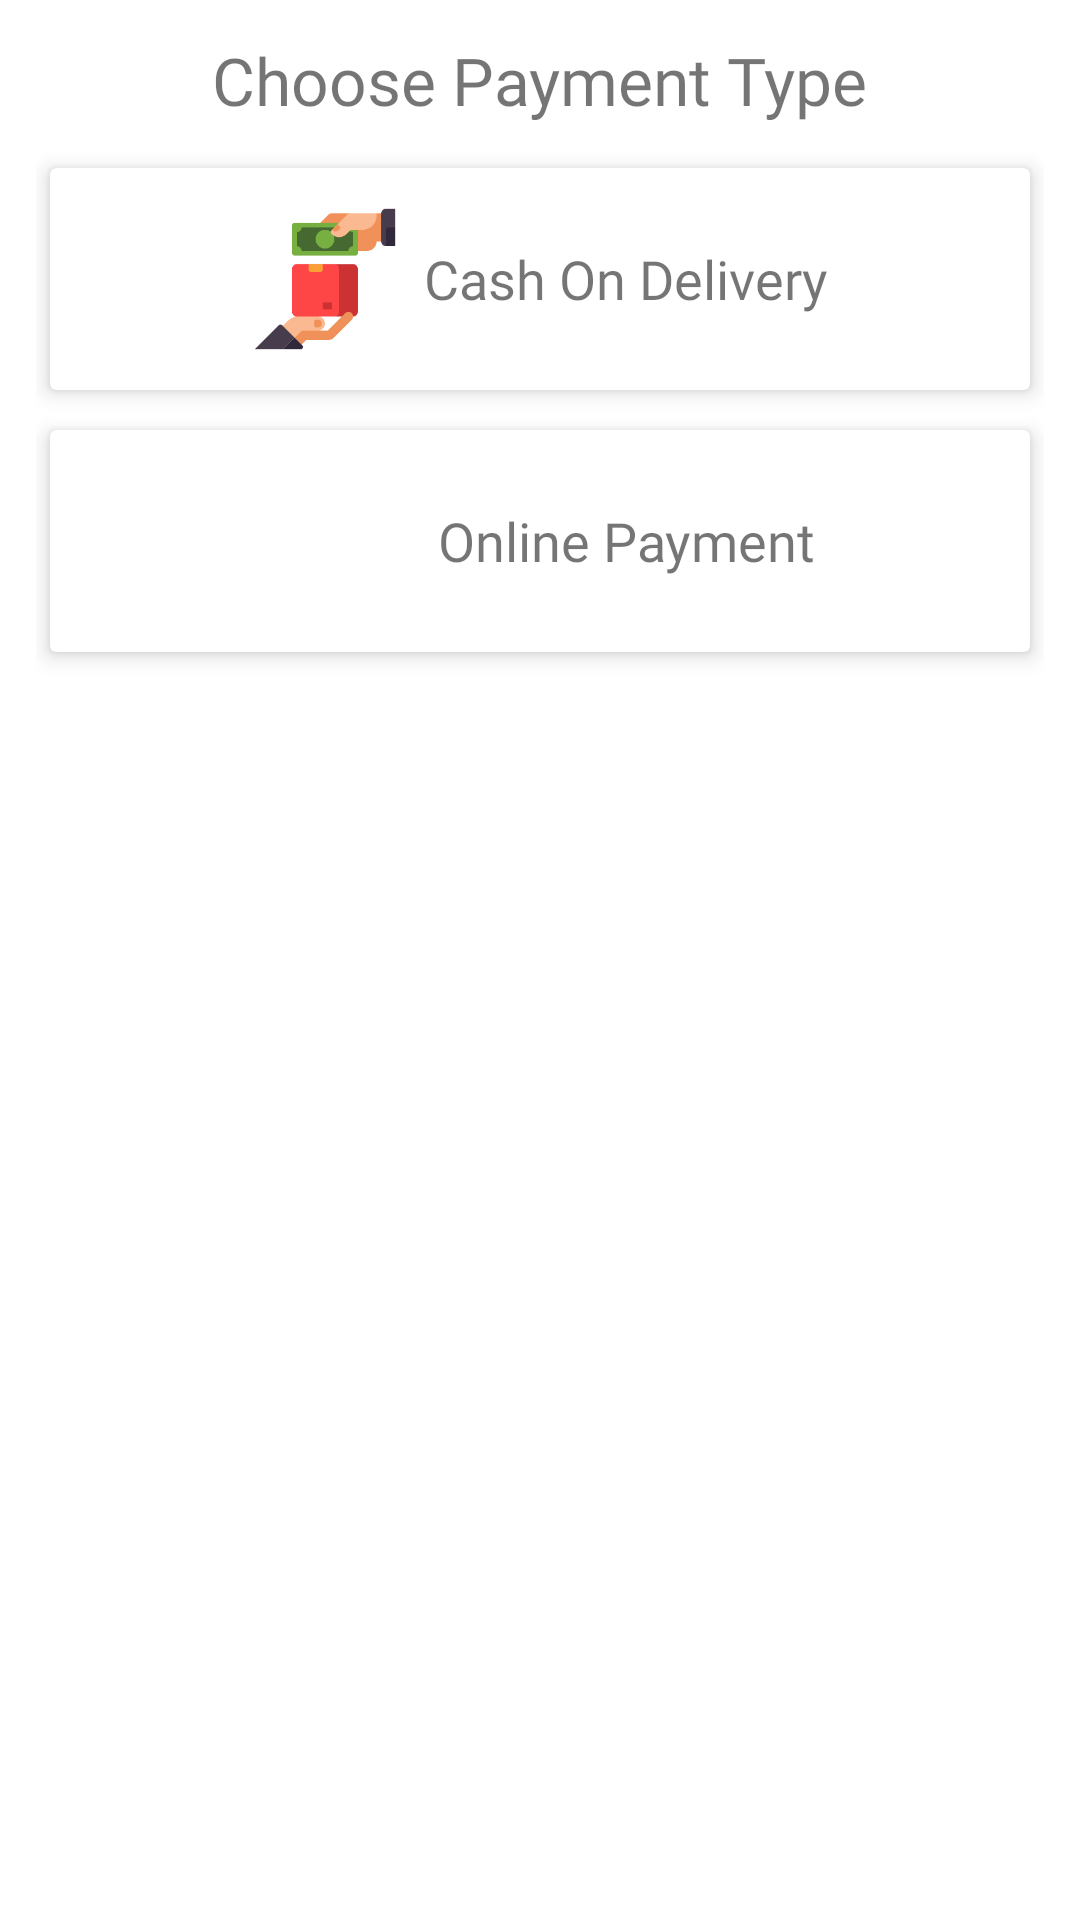

Named icons in this screenshot (1080 × 1920) and their centers, [x,y]:
cod: [325,279]
